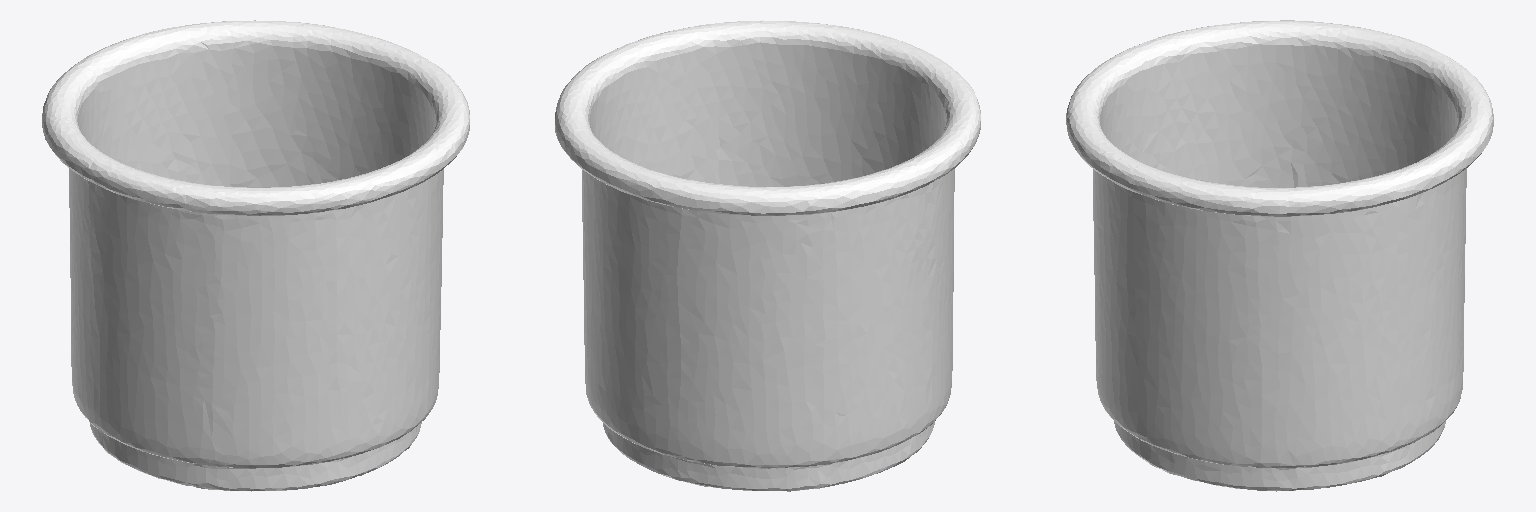
URDF robot description (072-a_toy_airplane):
<robot name="072-a_toy_airplane">
	<link name="_name">
		<visual>
			<origin xyz="-0.3572475763431454 -0.30807398220545207 -0.9092314374993266" rpy="0 0 0" />
			<geometry>
				<mesh filename="072-a_toy_airplane/google_16k/textured.obj" scale="10 10 10" />
			</geometry>
			<material name="texture">
				<color rgba="1.0 1.0 1.0 1.0" />
			</material>
		</visual>
		<collision>
			<geometry>
				<mesh filename="072-a_toy_airplane/google_16k/textured_vhacd.obj" scale="10 10 10" />
			</geometry>
		<origin xyz="-0.3572475763431454 -0.30807398220545207 -0.9092314374993266" rpy="0 0 0" /></collision>
		<inertial>
			<mass value="1.0" />
			<inertia ixx="1.0" ixy="0.0" ixz="0.0" iyy="1.0" iyz="0.0" izz="1.0" />
		</inertial>
	</link>
</robot>

--- Render facts (derived) ---
Views: 3 orthographic renders of the robot side by side, from view 1: azimuth 30°, elevation 25°; view 2: azimuth 150°, elevation 25°; view 3: azimuth 270°, elevation 25°.
Model 072-a_toy_airplane with 1 links and 0 joints (none), rooted at _name, posed every joint at zero.
Links seen in each view (by area): view 1: _name; view 2: _name; view 3: _name.
Boxes of the visible links, x1,y1,x2,y2 form: _name: [42, 20, 469, 491]; _name: [555, 20, 980, 491]; _name: [1066, 20, 1493, 491].
Bounding box of the posed robot: 0.915 × 0.9162 × 0.7506 m (x, y, z).
Meshes: 1 distinct files referenced, 1 mesh visuals loaded (1 OBJ).